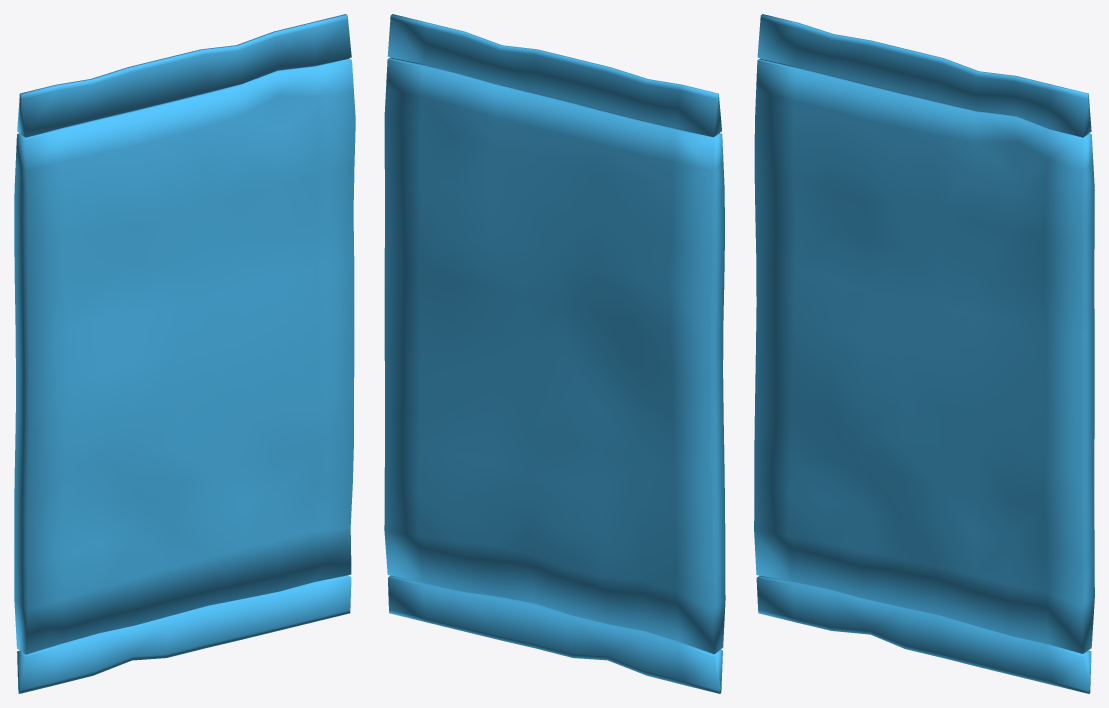
The model's file is CardModel.dae.
3 views of the same model, side by side, from view 1: azimuth 30°, elevation 25°; view 2: azimuth 150°, elevation 25°; view 3: azimuth 330°, elevation 25° (orthographic).
Parts seen in each view (by area): view 1: Cube; view 2: Cube; view 3: Cube.
Part boxes in pixels (left/top/right/bottom): Cube: left=14, top=14, right=355, bottom=693; Cube: left=384, top=14, right=725, bottom=693; Cube: left=754, top=14, right=1094, bottom=693.
Size of the model in its own units: 1.11 by 0.1152 by 1.93.
